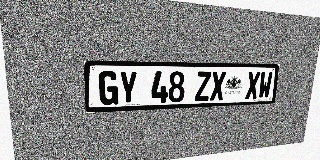4: (151, 71, 169, 103)
8: (168, 71, 185, 102)
G: (98, 71, 118, 105)
W: (258, 72, 273, 99)
X: (210, 71, 226, 101), (245, 72, 260, 99)
Y: (119, 71, 137, 105)
Z: (195, 71, 211, 101)
